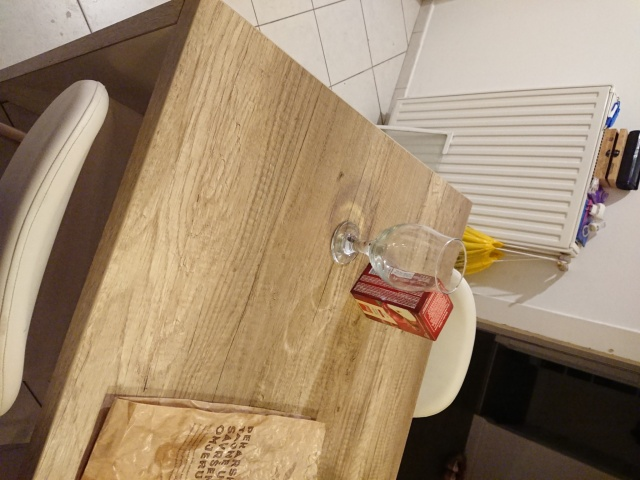Franck Apple Cinnamon Tea 60g: (347, 258, 456, 343)
